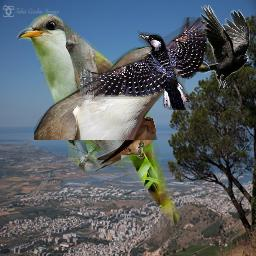Crow: (192, 5, 251, 94)
Cuckoo: (12, 14, 189, 226), (34, 46, 210, 140)
Swallow: (89, 117, 156, 171)
Woodpecker: (80, 17, 207, 110)
